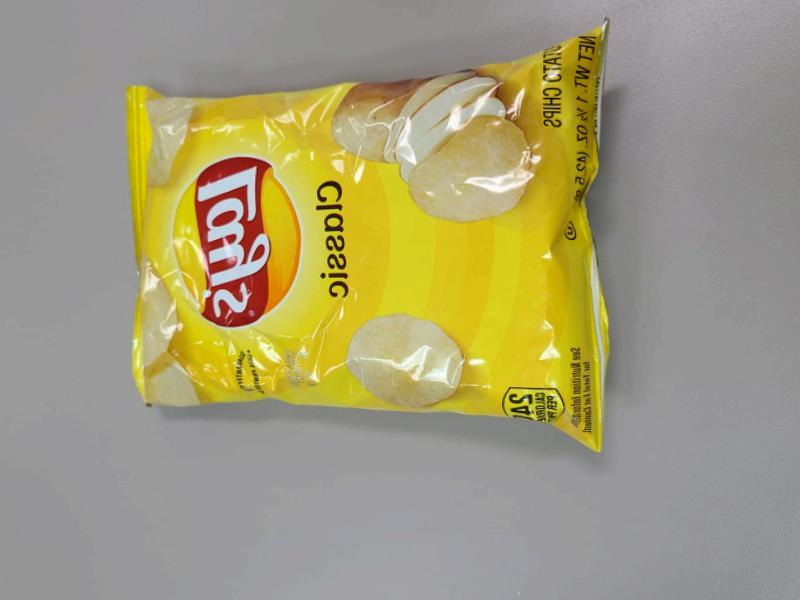lays: (114, 134, 572, 500)
